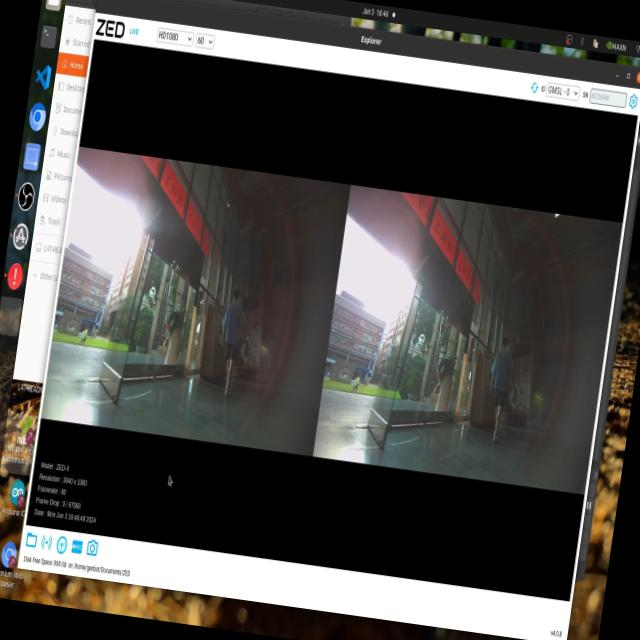blue: (506, 374, 526, 408), (237, 338, 254, 363)
